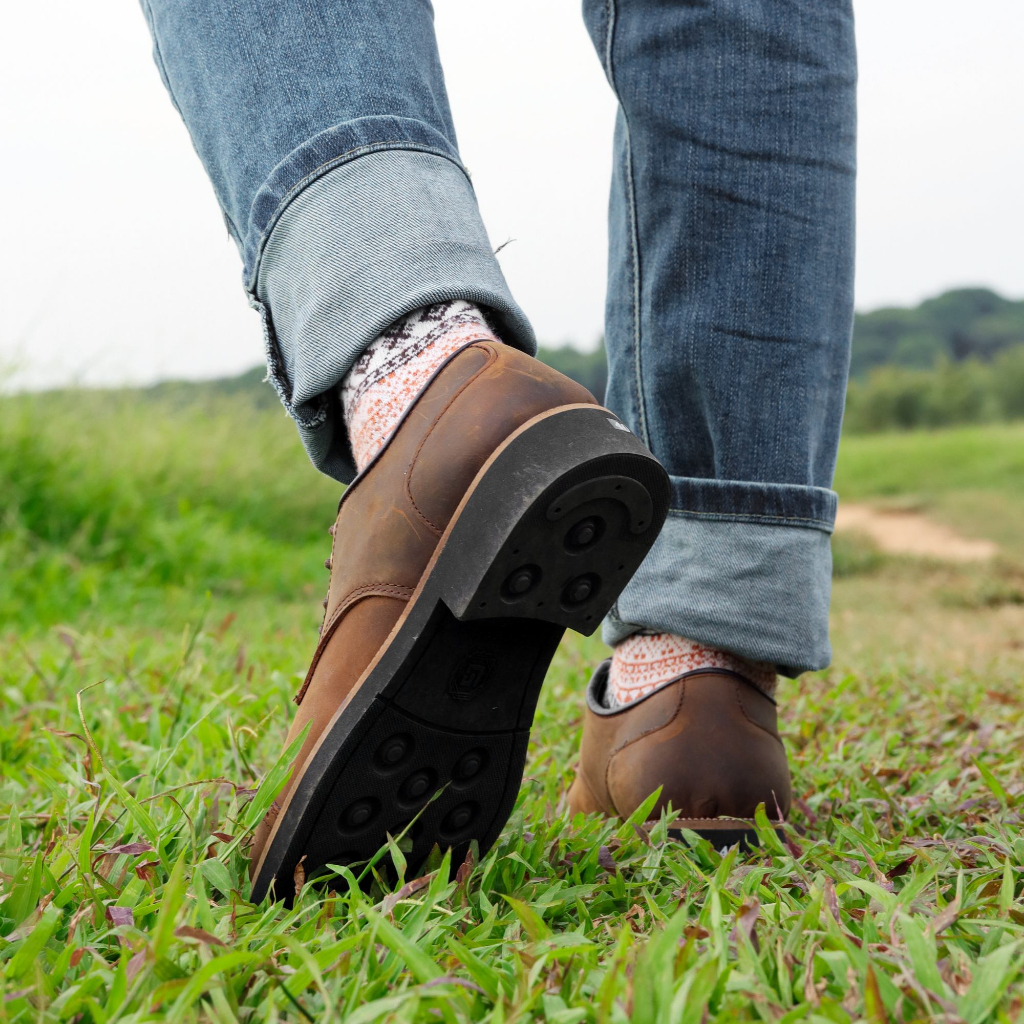derby: (231, 338, 674, 908), (560, 653, 793, 863)
